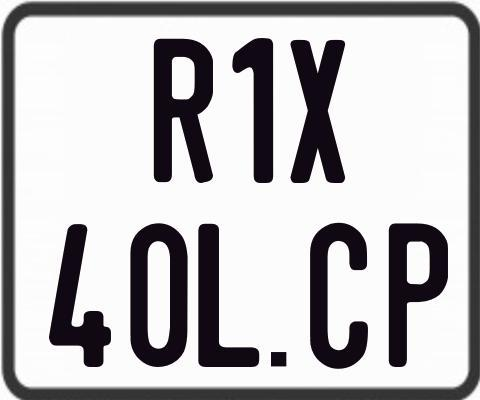0: (130, 223, 190, 367)
1: (229, 35, 275, 186)
4: (47, 223, 115, 370)
C: (309, 221, 368, 368)
L: (198, 223, 261, 370)
P: (386, 220, 446, 367)
R: (153, 37, 215, 183)
X: (288, 38, 344, 186)
